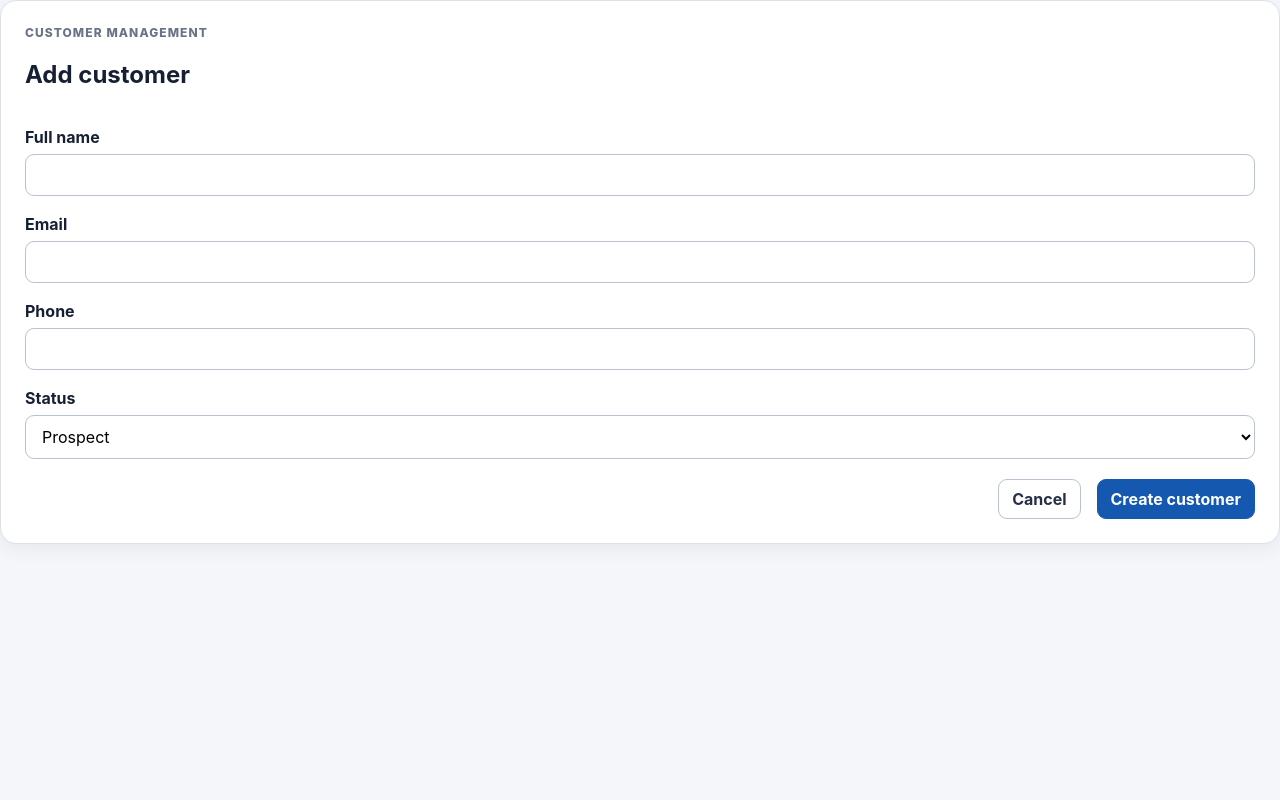
Test case: CustomerForm › rejects an invalid email
The width and height of the screenshot is (1280, 800).
Type "Jason Momoa" into the field labelled "Full name" at (640, 175), box [25,154,1255,196]
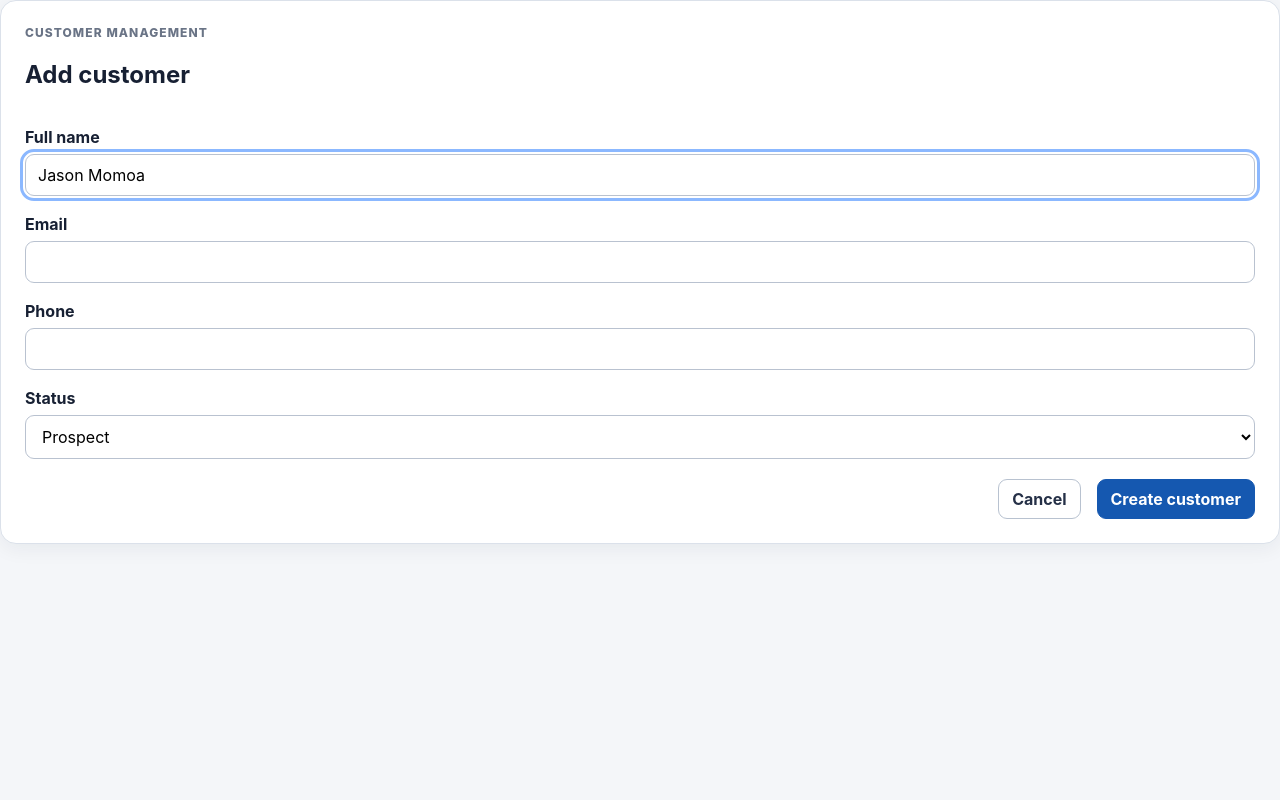
Type "not-an-email" into the field labelled "Email" at (640, 262), box [25,241,1255,283]
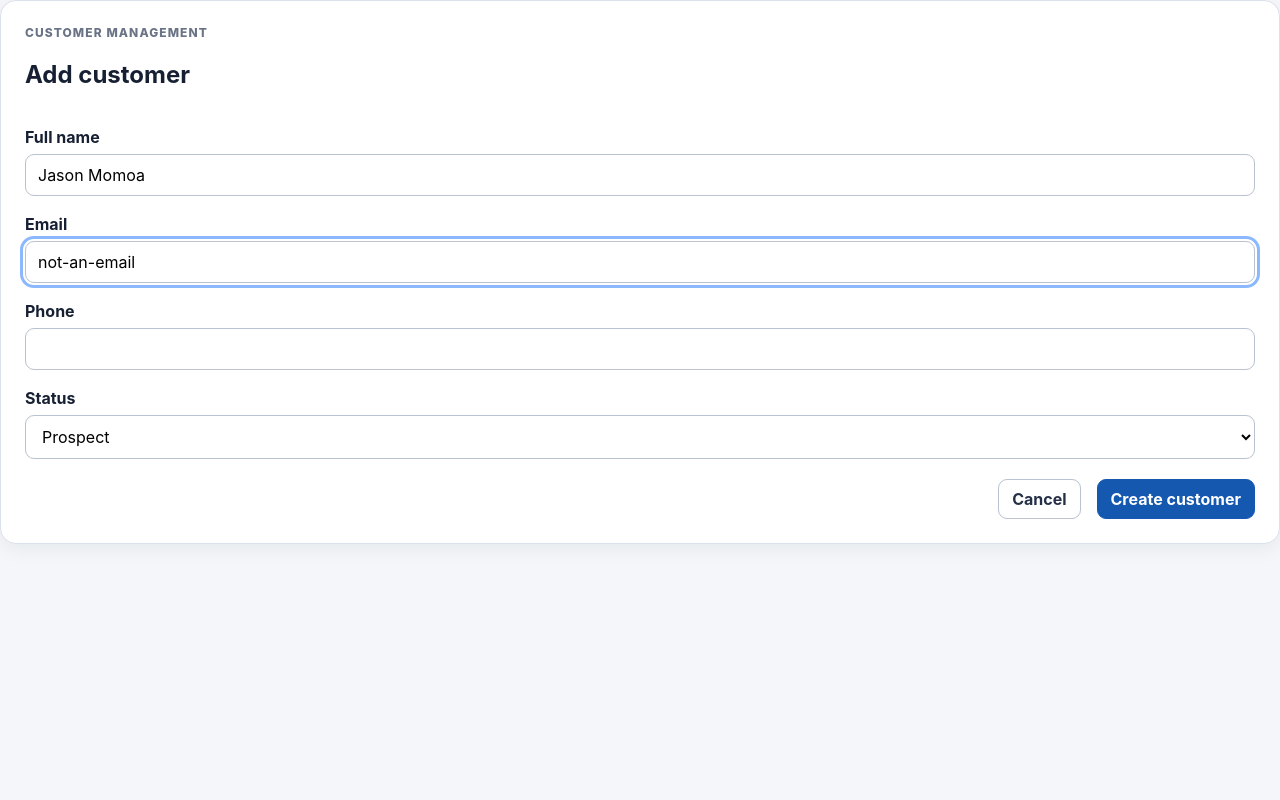
Click the button "Create customer" at (1176, 499), box [1096,479,1255,519]
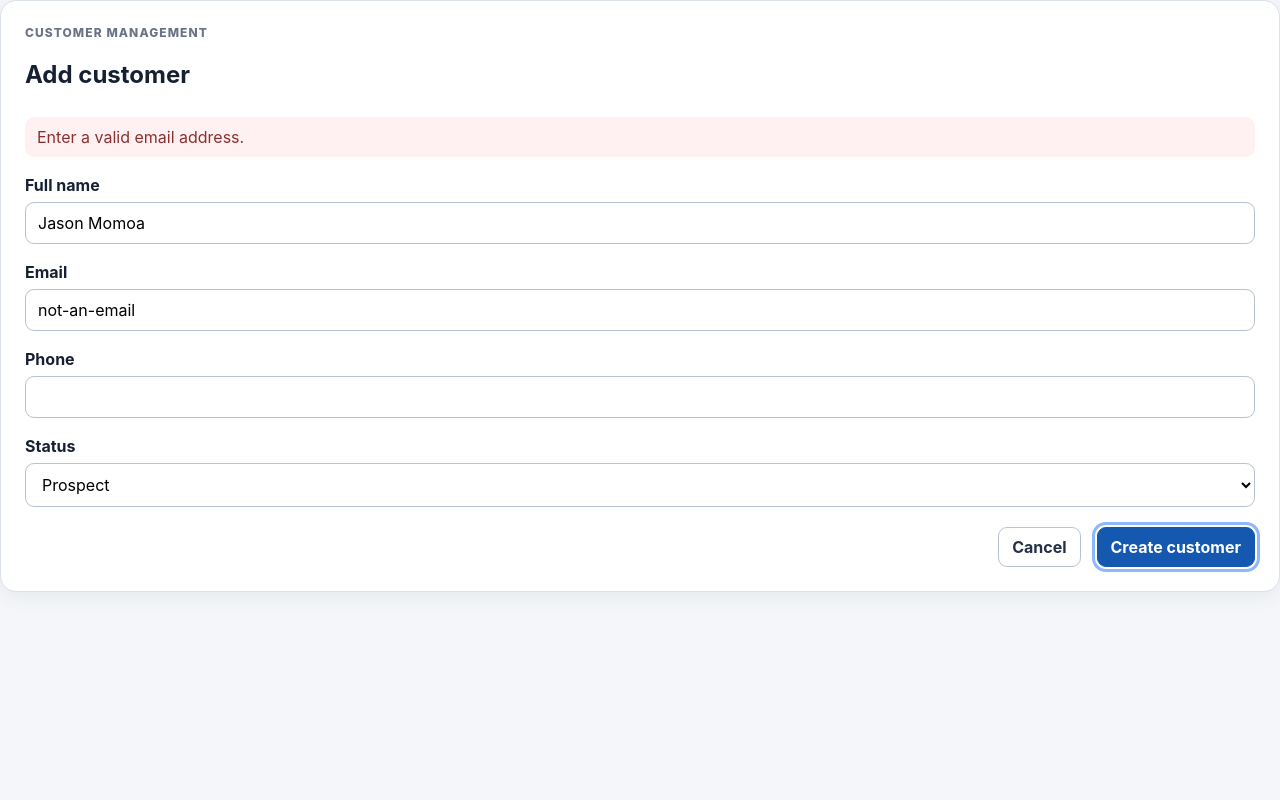
Expected: the message reads "Enter a valid email address.", [37,127,244,147]
